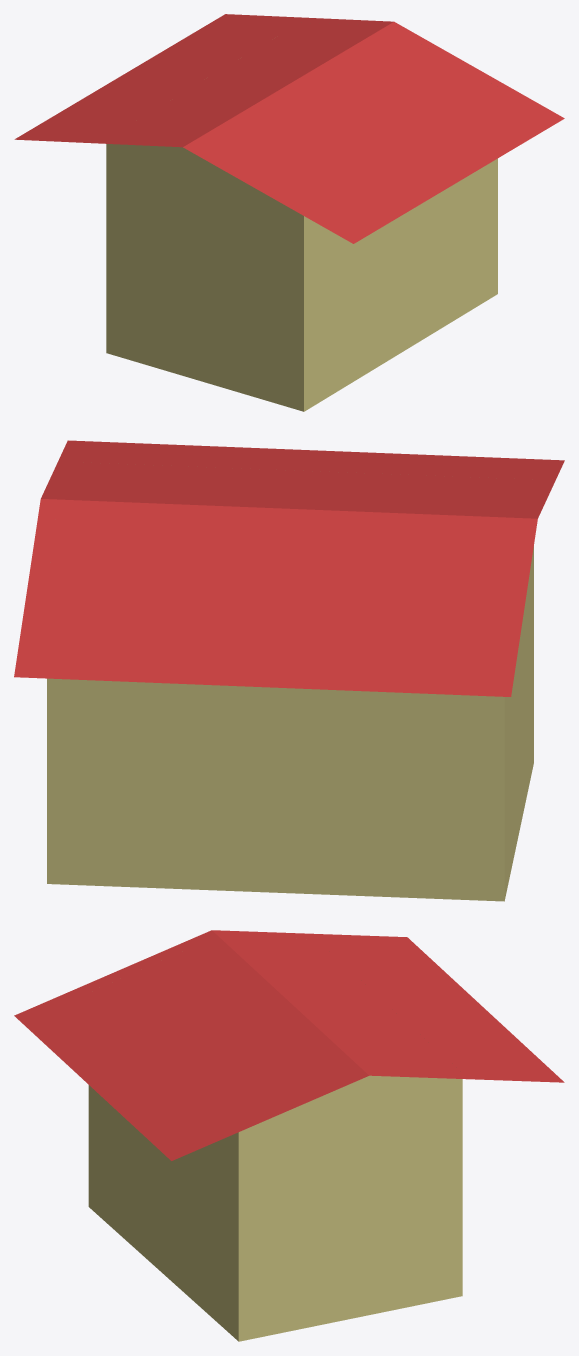
3 views of the same model, one above another, from view 1: azimuth 30°, elevation 25°; view 2: azimuth 150°, elevation 25°; view 3: azimuth 270°, elevation 25° (orthographic). The views are drawn at different scales.
Size of the model in its own units: 21.12 by 22.2 by 10.91.
